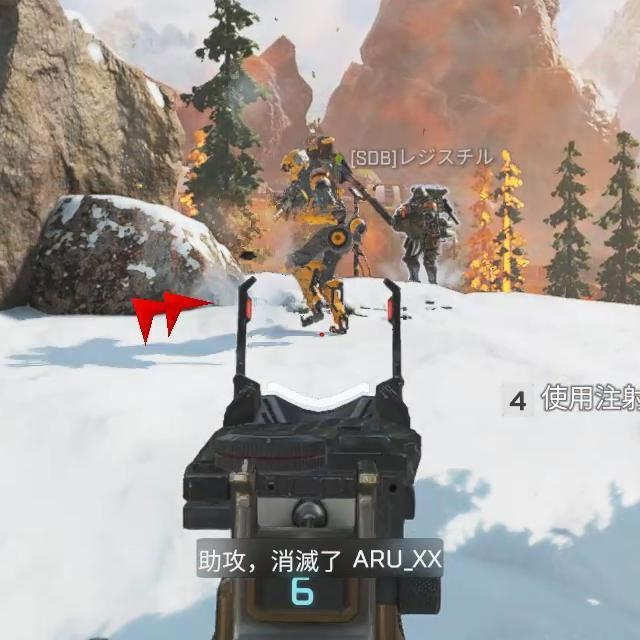avatar: (270, 133, 368, 338), (388, 182, 452, 286)
